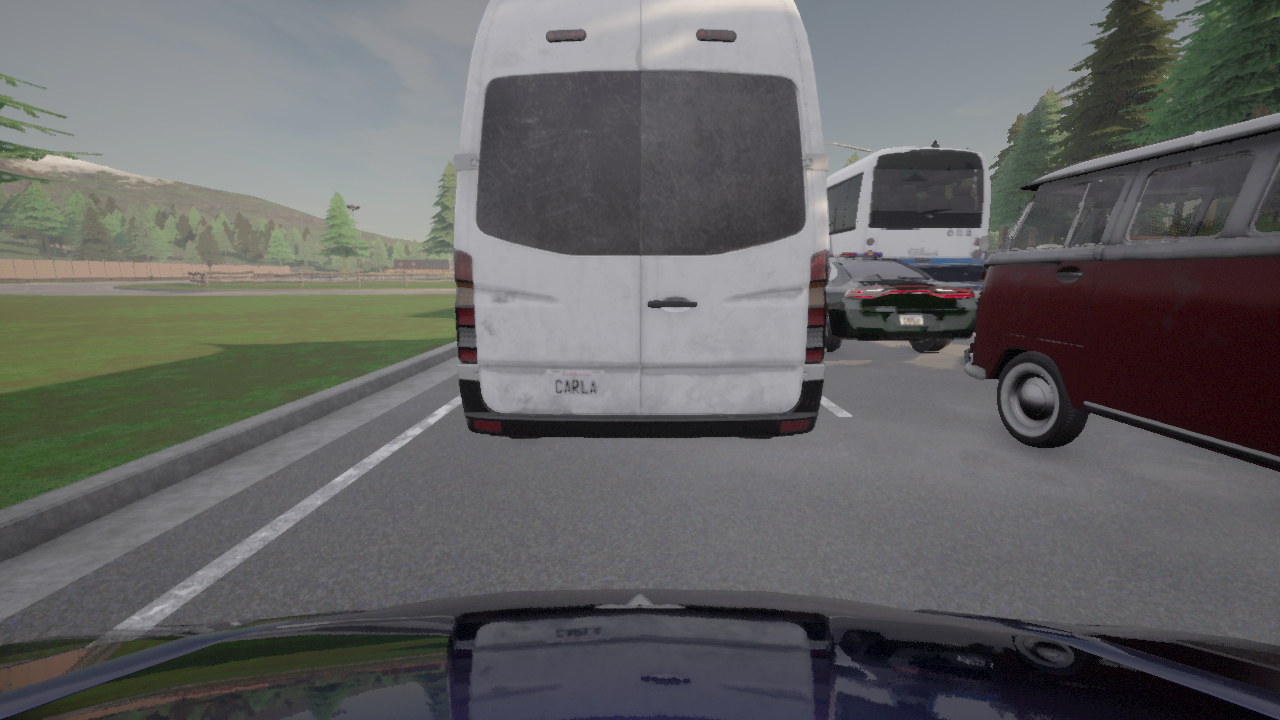cyclist: (0, 588, 1279, 719), (454, 0, 828, 438), (963, 112, 1279, 472), (826, 147, 989, 299), (825, 253, 977, 352)
